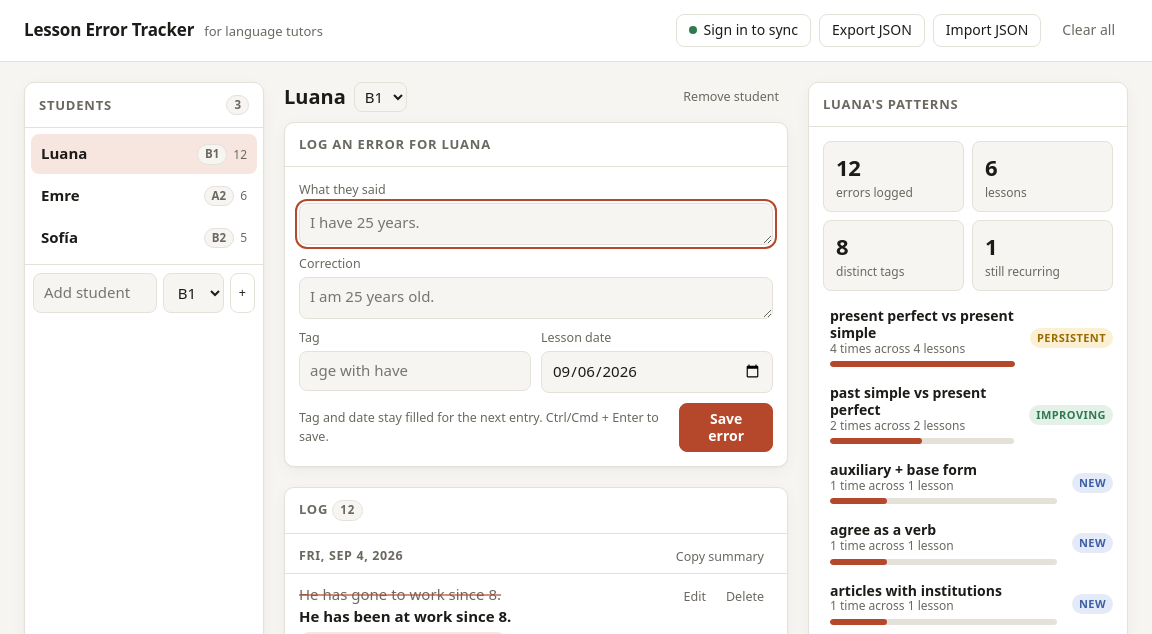
Scenario: sync › shows the server message when sign-in fails and stays signed out
Click the button "Sign in to sync" at (744, 30), box [676,14,811,47]
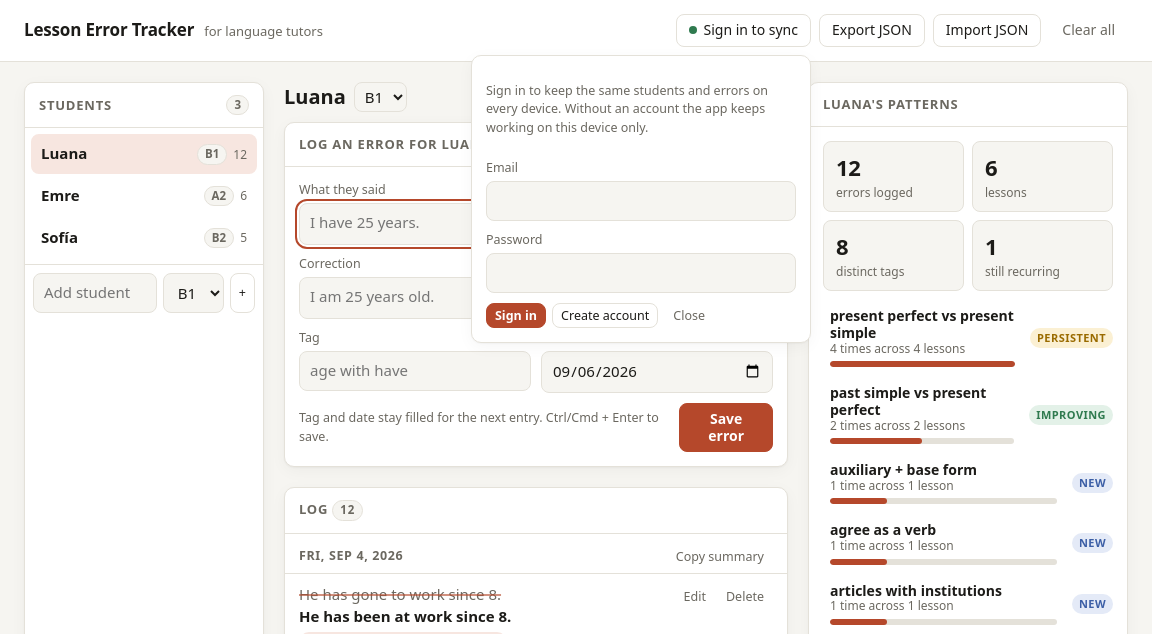
Type "tutor@example.com" into the field labelled "Email" at (641, 201), box [486,181,796,221]
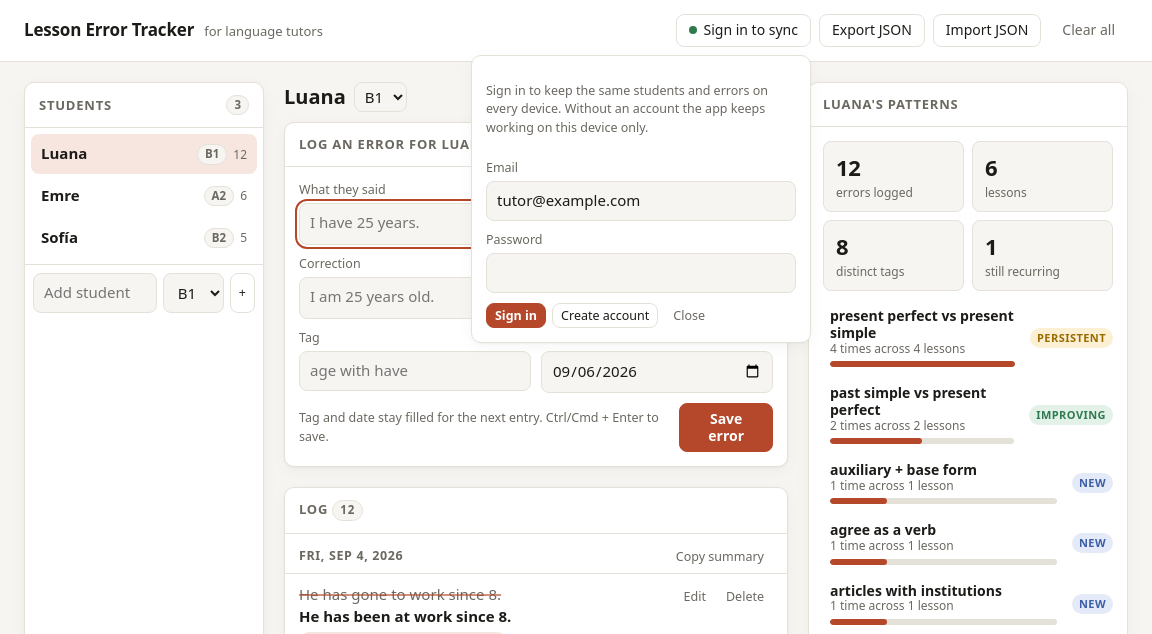
Type "wrong password" into the password field labelled "Password" at (641, 273), box [486,253,796,293]
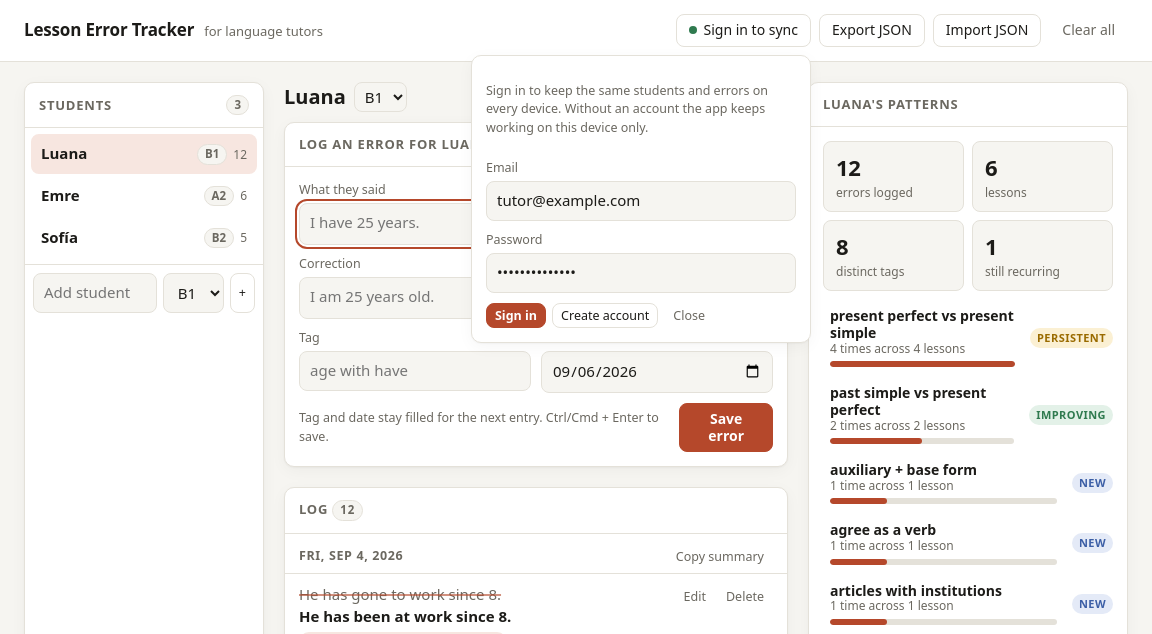
Click the button "Sign in" at (516, 315), box [486,303,546,328]
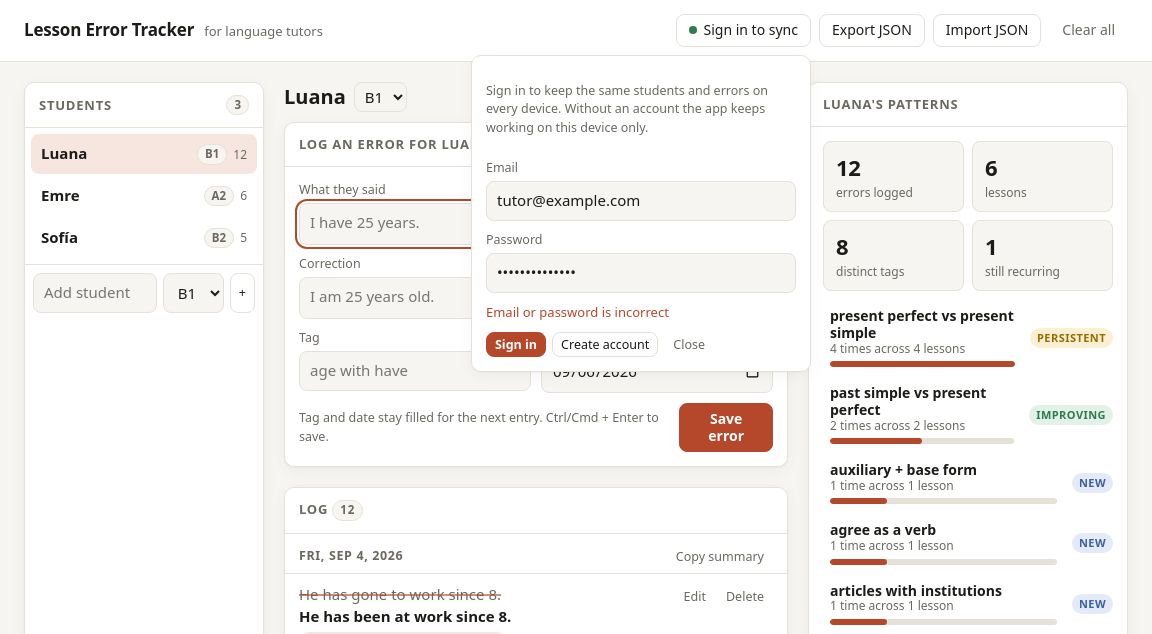
Expected: the text "Email or password is incorrect" is shown, [486,303,669,321]
